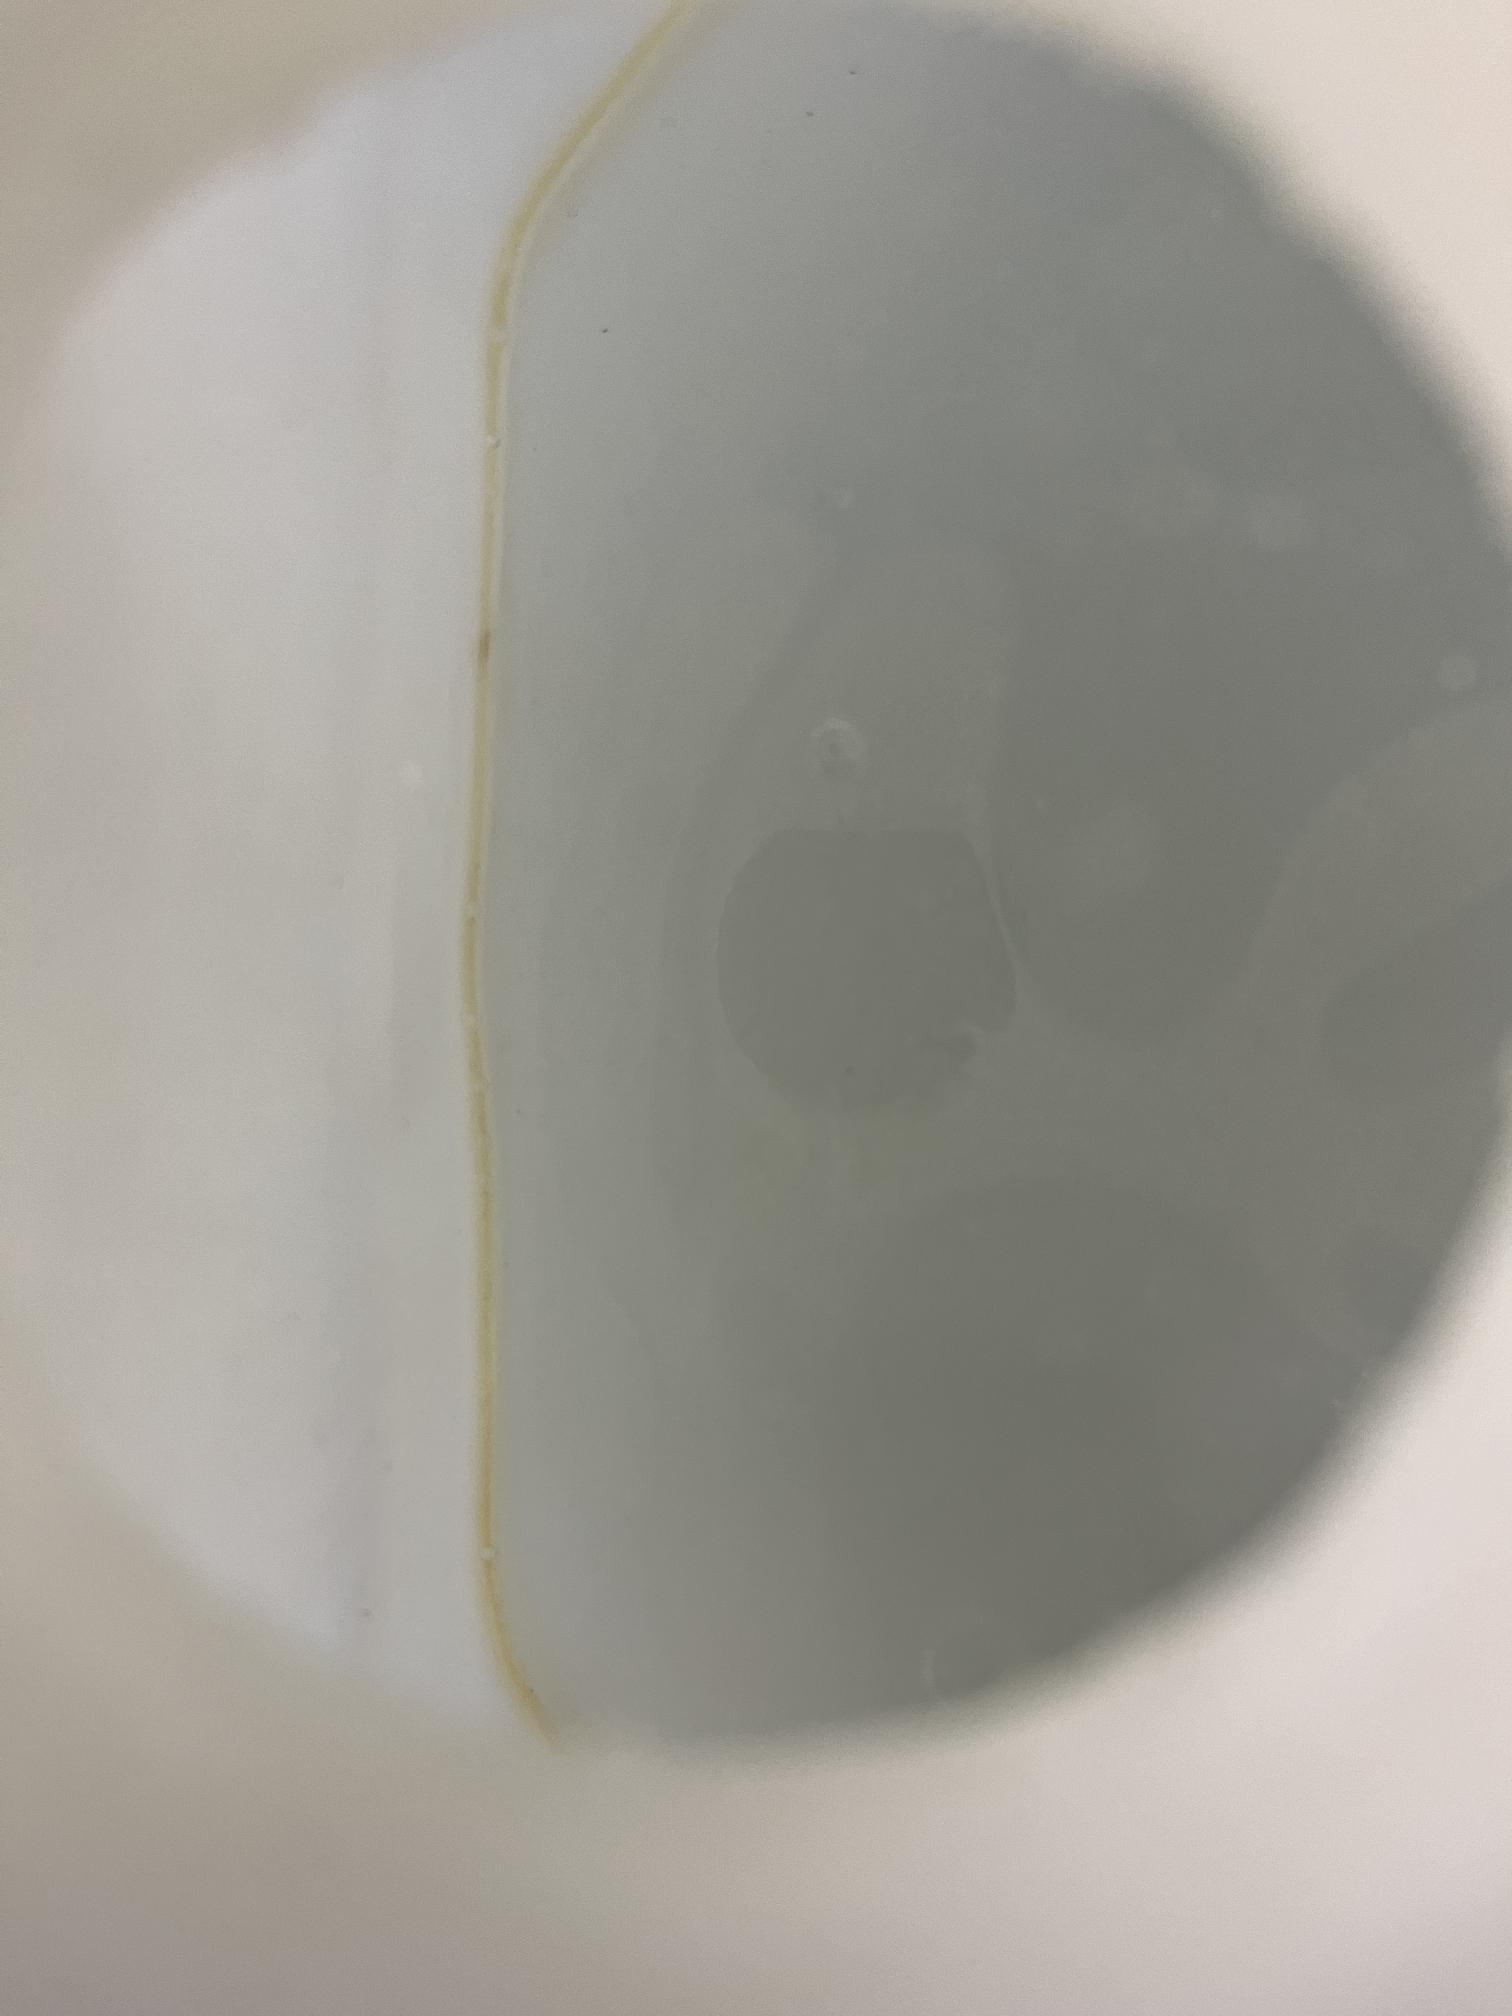Presenca de Oleo - - 10ml: (98, 103, 1444, 1822)
